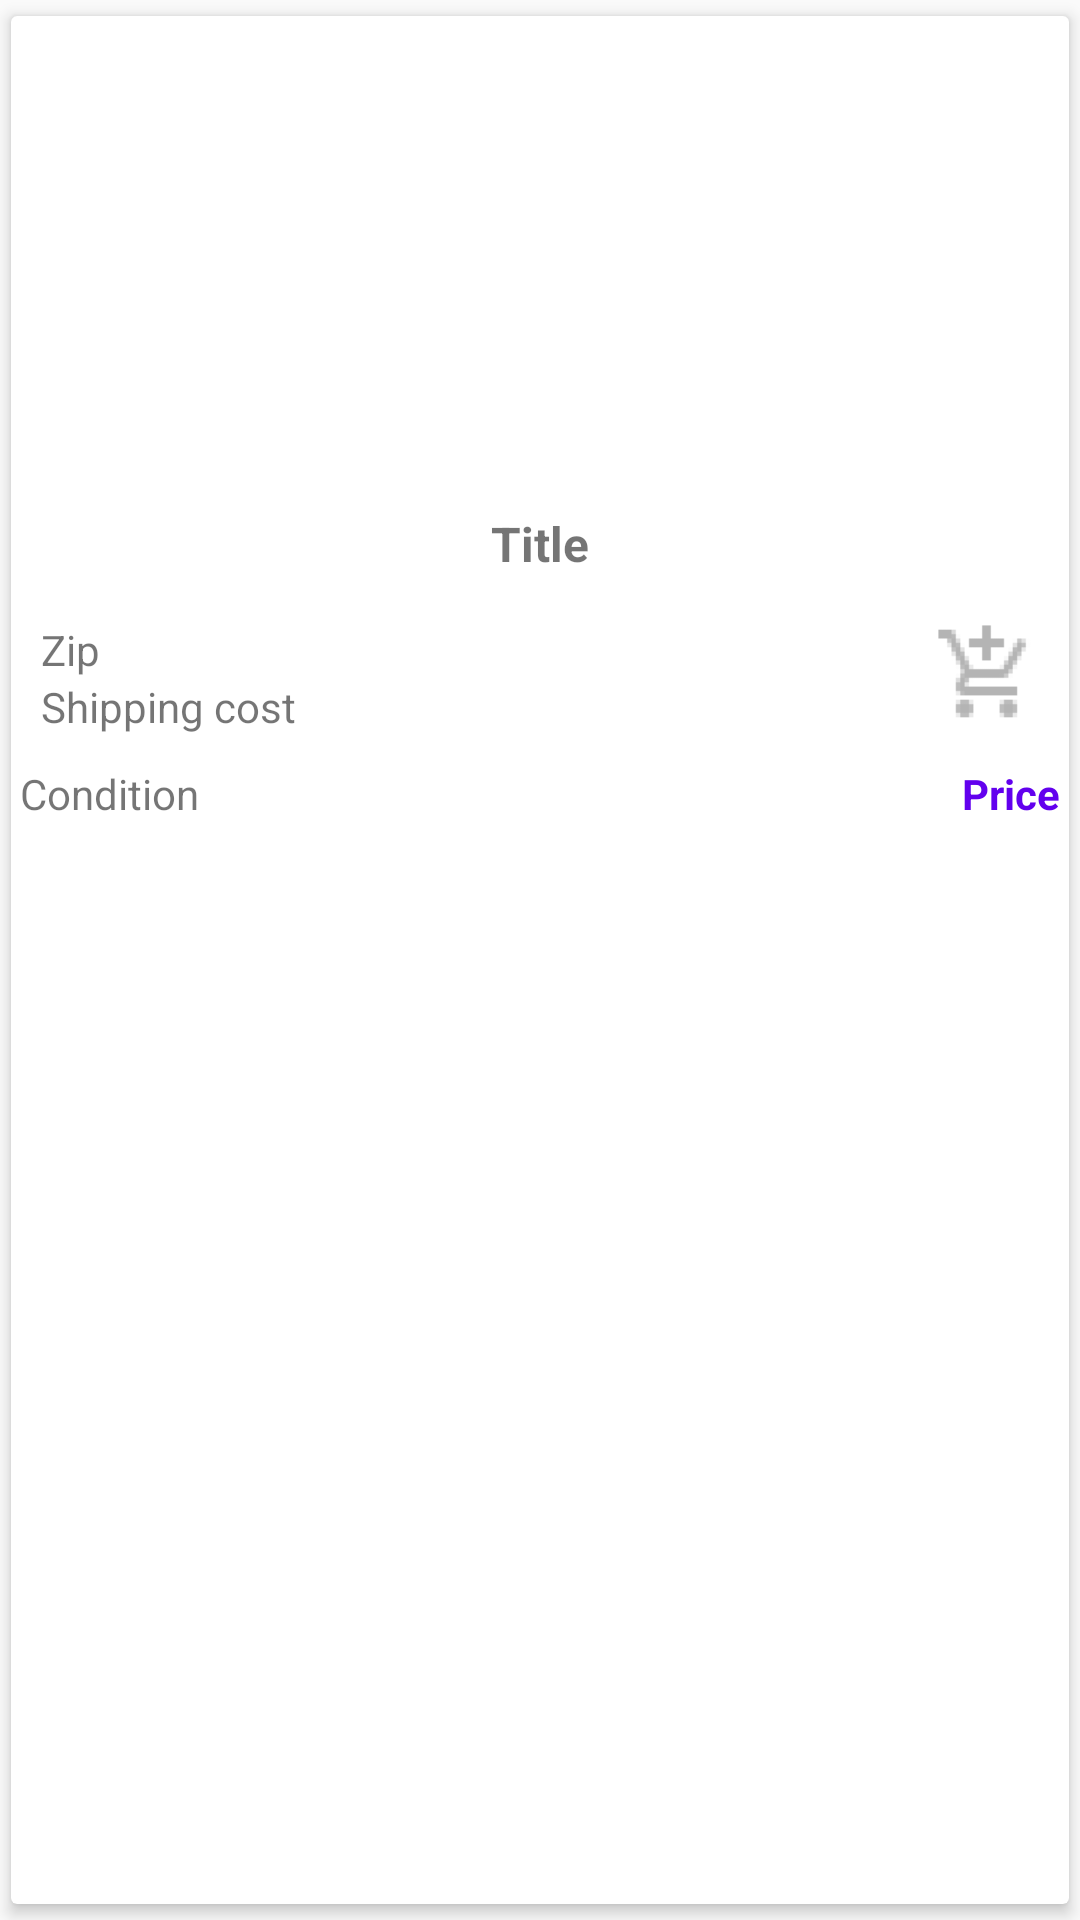

Screen size 1080×1920. Icon name, then its center in pixels as [x,y]:
add: [982,671]
